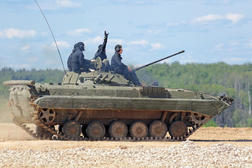bmp: (4, 60, 227, 143)
